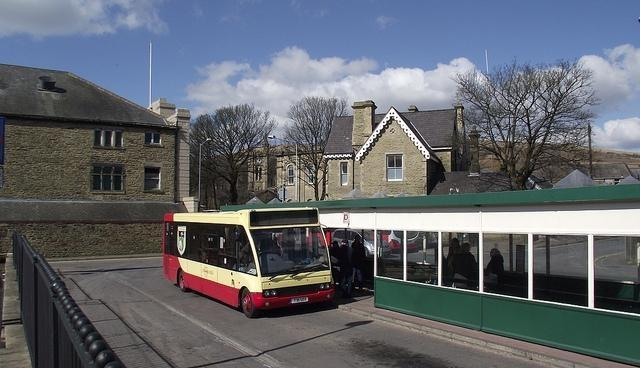bus: (165, 206, 334, 318)
car: (332, 228, 392, 258)
